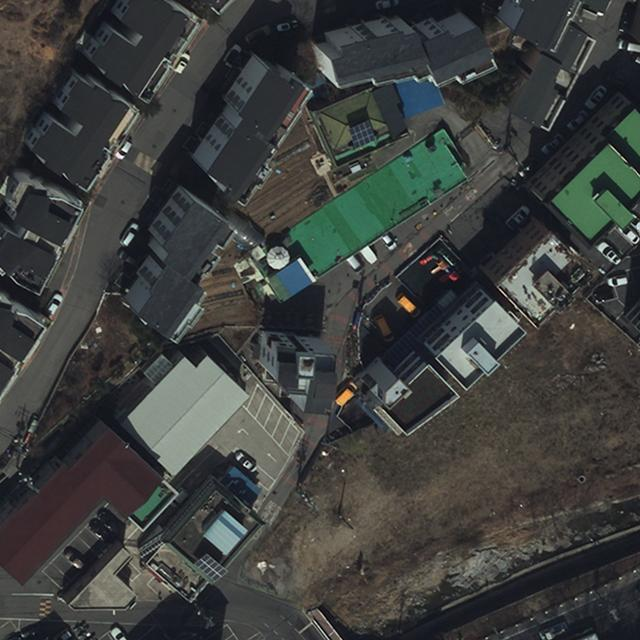solarpanel: (192, 552, 230, 583), (348, 120, 378, 148)
